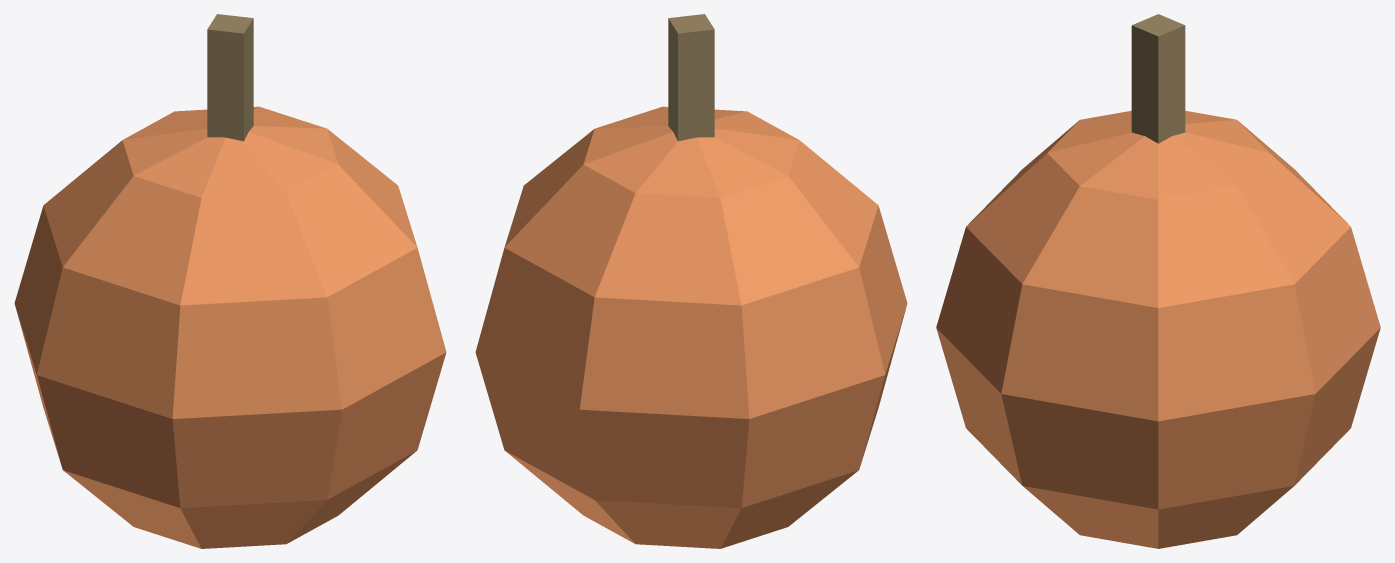
The model's file is fruit.glb.
The picture shows the model from 3 angles, left to right: view 1: azimuth 30°, elevation 25°; view 2: azimuth 150°, elevation 25°; view 3: azimuth 270°, elevation 25°; orthographic projection.
Visible parts, largest first — view 1: fruit, stem; view 2: fruit, stem; view 3: fruit, stem.
Part boxes in pixels (left/top/right/bottom): fruit: left=14, top=106, right=446, bottom=548; stem: left=207, top=14, right=253, bottom=141; fruit: left=475, top=106, right=907, bottom=548; stem: left=668, top=14, right=714, bottom=141; fruit: left=936, top=110, right=1380, bottom=548; stem: left=1131, top=14, right=1185, bottom=143.
Bounding box in the file's own units: 0.05 × 0.0625 × 0.05.
